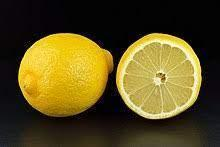lemon: (18, 33, 113, 117), (116, 33, 202, 119)
